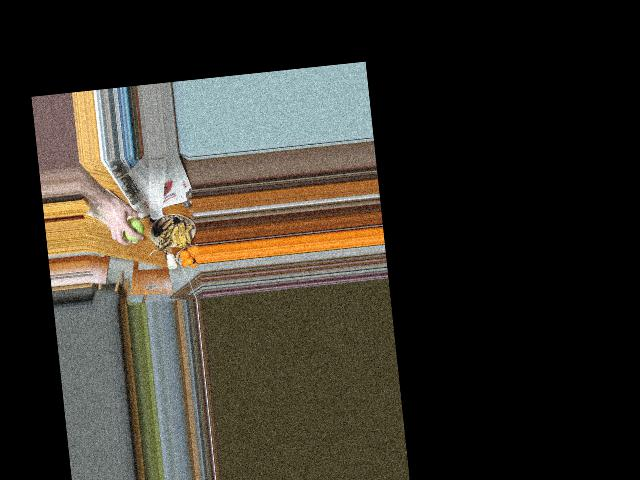apple: (120, 216, 144, 243)
